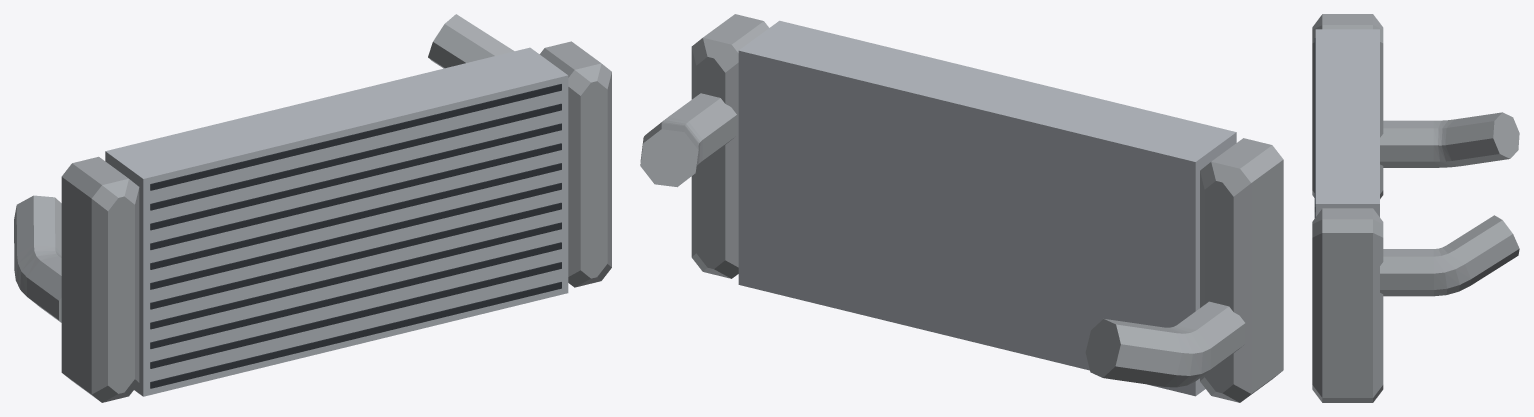
File: brute_500.glb
The picture shows the model from 3 angles, left to right: view 1: azimuth 30°, elevation 25°; view 2: azimuth 150°, elevation 25°; view 3: azimuth 270°, elevation 25°; orthographic projection. The views are drawn at different scales.
Parts seen in each view (by area): view 1: model; view 2: model; view 3: model.
Part boxes in pixels (<box>): model: <box>14,14,611,402</box>; model: <box>640,14,1283,402</box>; model: <box>1312,14,1519,402</box>.
Bounding box in the file's own units: 0.6 × 0.24 × 0.2456.
Materials: 2 (1 with a texture image).
